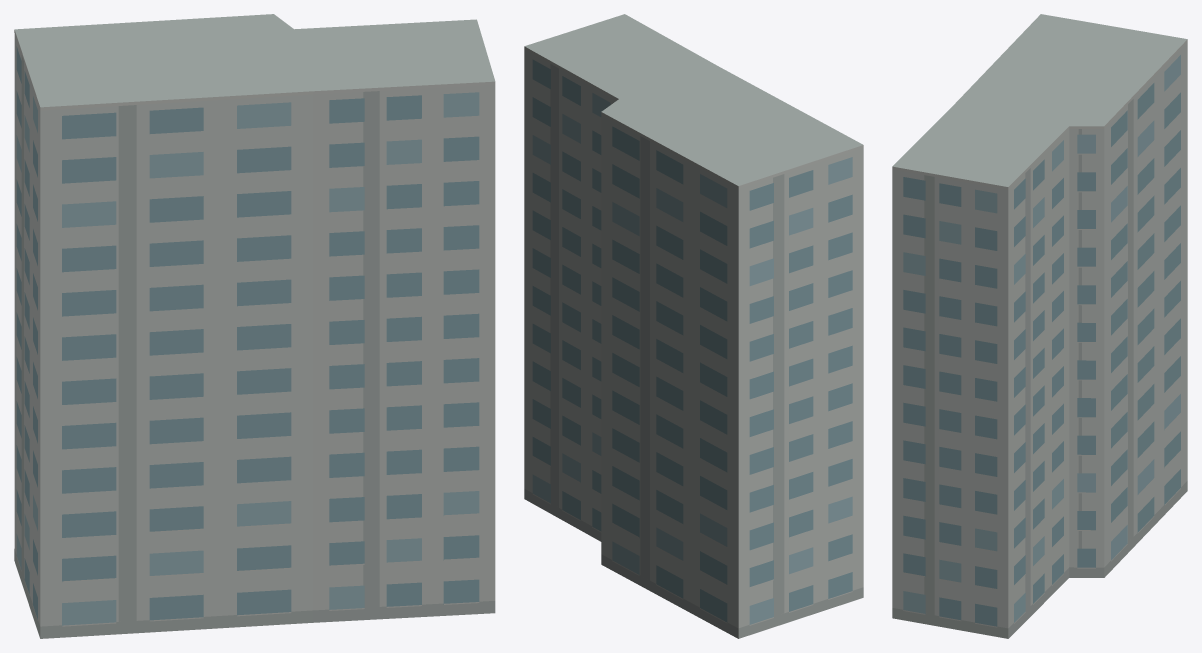
Rendered from residential-0863ed77-5933-4344-819f-9ca36b25ca4a.glb.
3 views of the same model, side by side, from view 1: azimuth 30°, elevation 25°; view 2: azimuth 150°, elevation 25°; view 3: azimuth 270°, elevation 25° (orthographic). The views are drawn at different scales.
Visible parts, largest first — view 1: residential-0863ed77-5933-4344-819f-9ca36b25ca4a.tmp; view 2: residential-0863ed77-5933-4344-819f-9ca36b25ca4a.tmp; view 3: residential-0863ed77-5933-4344-819f-9ca36b25ca4a.tmp.
Boxes of the visible parts, left/top/right/bottom form: residential-0863ed77-5933-4344-819f-9ca36b25ca4a.tmp: left=14, top=14, right=495, bottom=638; residential-0863ed77-5933-4344-819f-9ca36b25ca4a.tmp: left=524, top=14, right=863, bottom=638; residential-0863ed77-5933-4344-819f-9ca36b25ca4a.tmp: left=892, top=14, right=1187, bottom=638.
Size of the model in its own units: 32.07 by 39 by 23.12.
